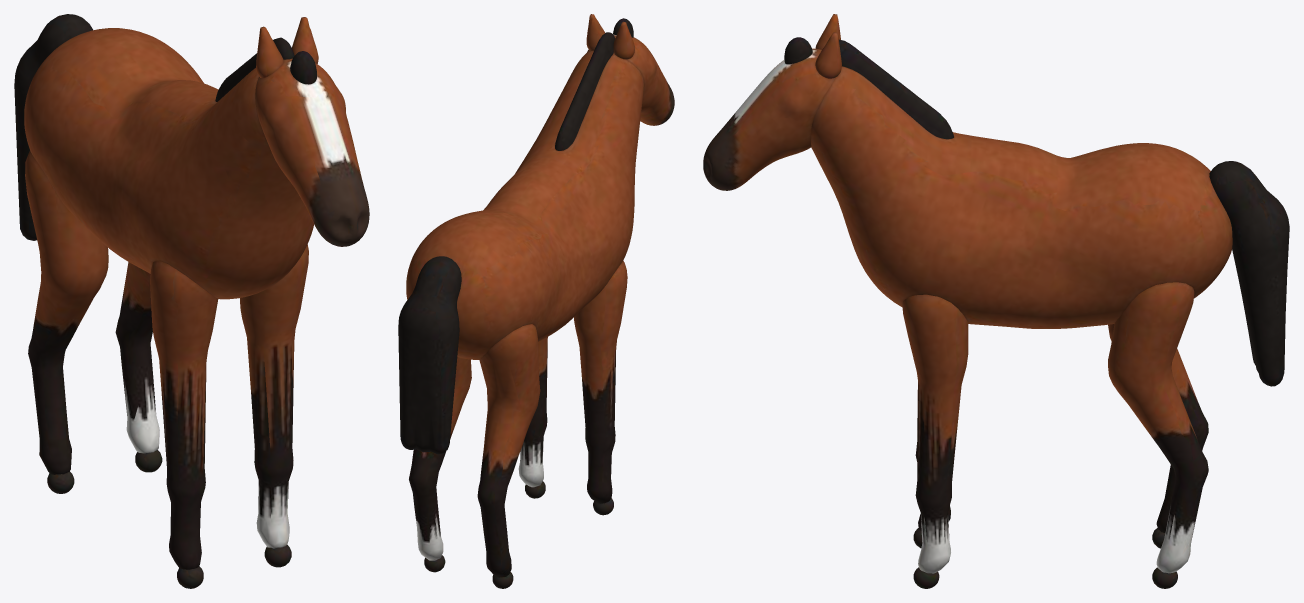
File: animal_horse.glb
3 views of the same model, side by side, from view 1: azimuth 30°, elevation 25°; view 2: azimuth 150°, elevation 25°; view 3: azimuth 270°, elevation 25° (orthographic). The views are drawn at different scales.
Parts seen in each view (by area): view 1: animal_horse, head, leg0, leg2, leg1, leg3, tail; view 2: animal_horse, tail, leg2, leg0, leg3, head, leg1; view 3: animal_horse, leg3, leg1, head, tail, leg2.
Part boxes in pixels (box(x1,y1,x2,y2)): animal_horse: box(24, 28, 313, 299); head: box(255, 17, 369, 246); leg0: box(150, 261, 218, 588); leg2: box(25, 150, 108, 493); leg1: box(240, 244, 308, 567); leg3: box(115, 262, 162, 472); tail: box(14, 14, 92, 240); animal_horse: box(406, 32, 643, 359); tail: box(398, 256, 461, 454); leg2: box(477, 324, 540, 588); leg0: box(574, 260, 627, 515); leg3: box(409, 357, 471, 572); head: box(586, 14, 674, 125); leg1: box(518, 337, 547, 498); animal_horse: box(811, 39, 1232, 328); leg3: box(1108, 282, 1208, 588); leg1: box(902, 294, 968, 588); head: box(703, 14, 841, 190); tail: box(1209, 161, 1289, 386); leg2: box(1108, 324, 1208, 548).
Size of the model in its own units: 0.2312 by 0.8228 by 0.8035.
Materials: 1 (1 with a texture image).
